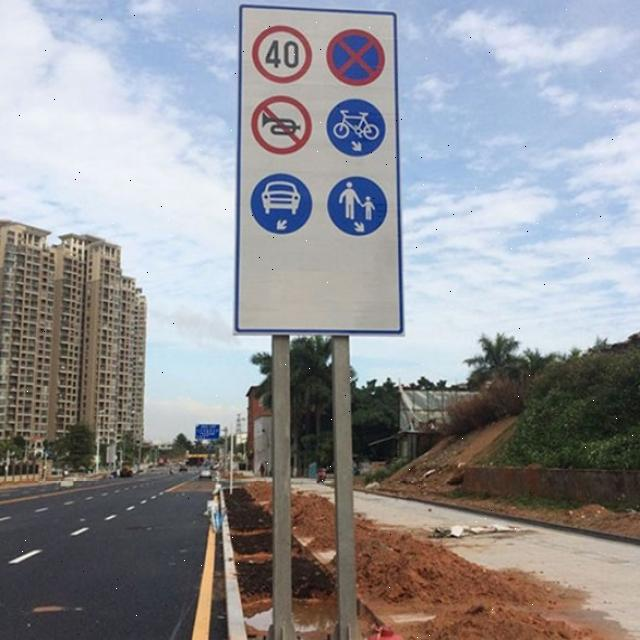speed limit 40: (251, 24, 313, 87)
